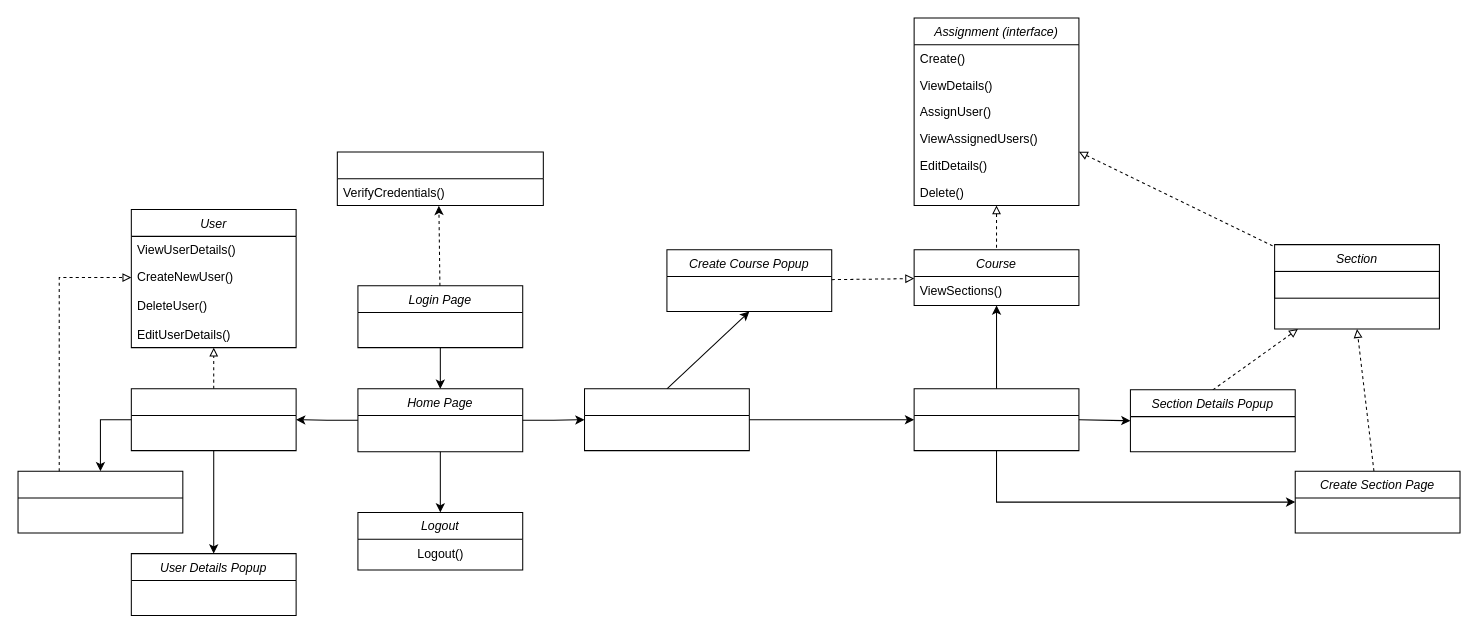
The diagram is 1478 pixels wide and 633 high, and some of its shapes have lost their labels. The box of each missing label's shape, as (x1, y1, x2, y2) in pixels:
Course Details Popup: (913, 388, 1079, 451)
Courses Page: (583, 388, 749, 451)
Create User Popup: (17, 470, 183, 533)
Login: (336, 151, 543, 205)
SectionType: (1274, 270, 1439, 298)
Users Page: (130, 388, 296, 451)
